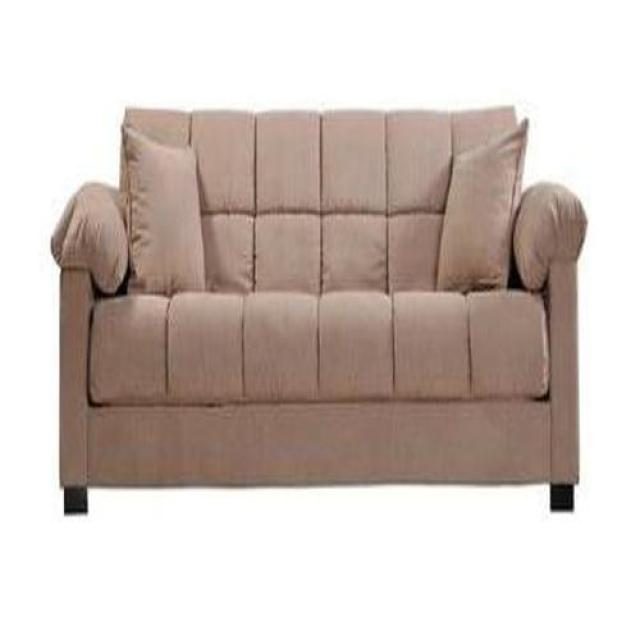sofa: (52, 109, 589, 513)
